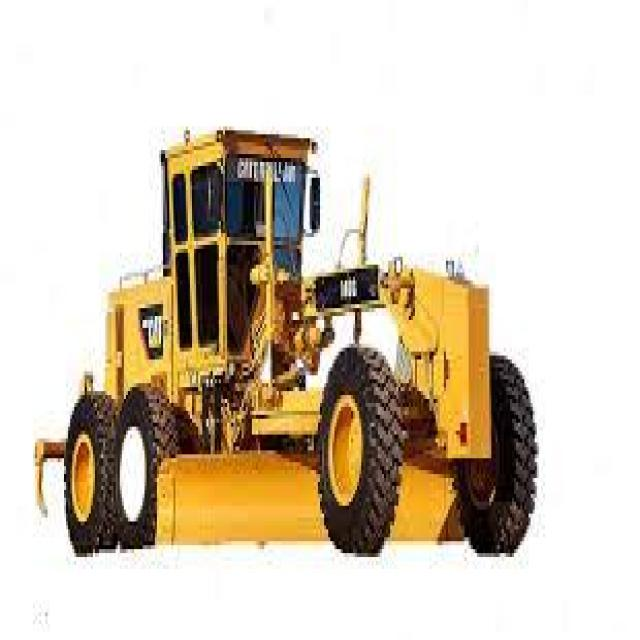Grader: (29, 114, 535, 573)
